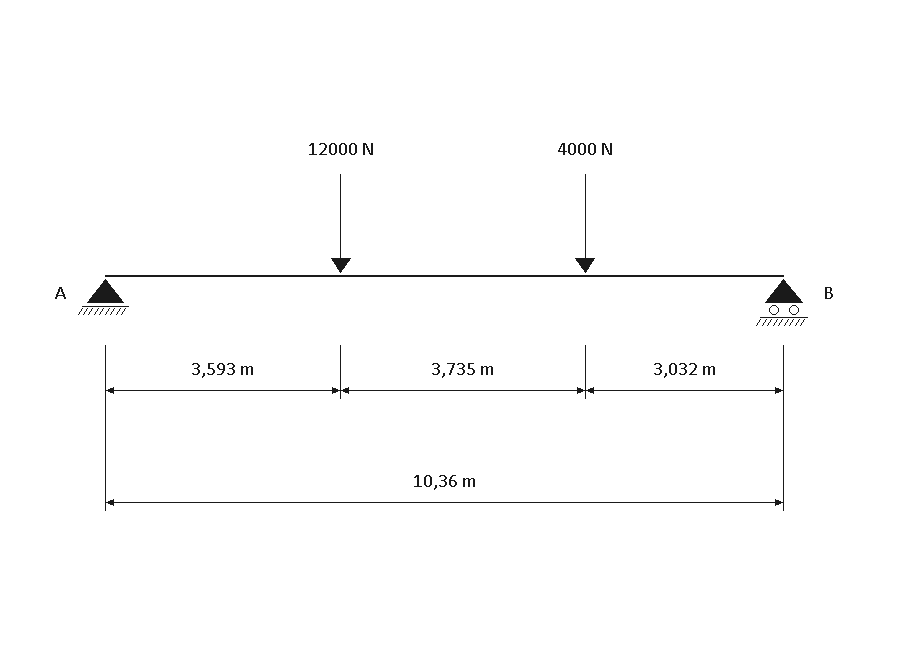pin_support: (78, 279, 129, 315)
point_load: (331, 174, 351, 273), (575, 174, 595, 273)
roller_support: (756, 279, 808, 326)
